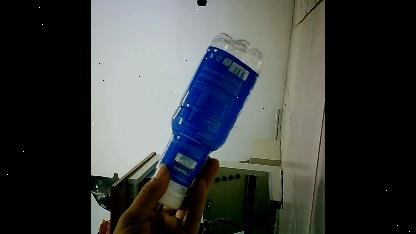Plastic Bottle: (146, 31, 264, 213)
